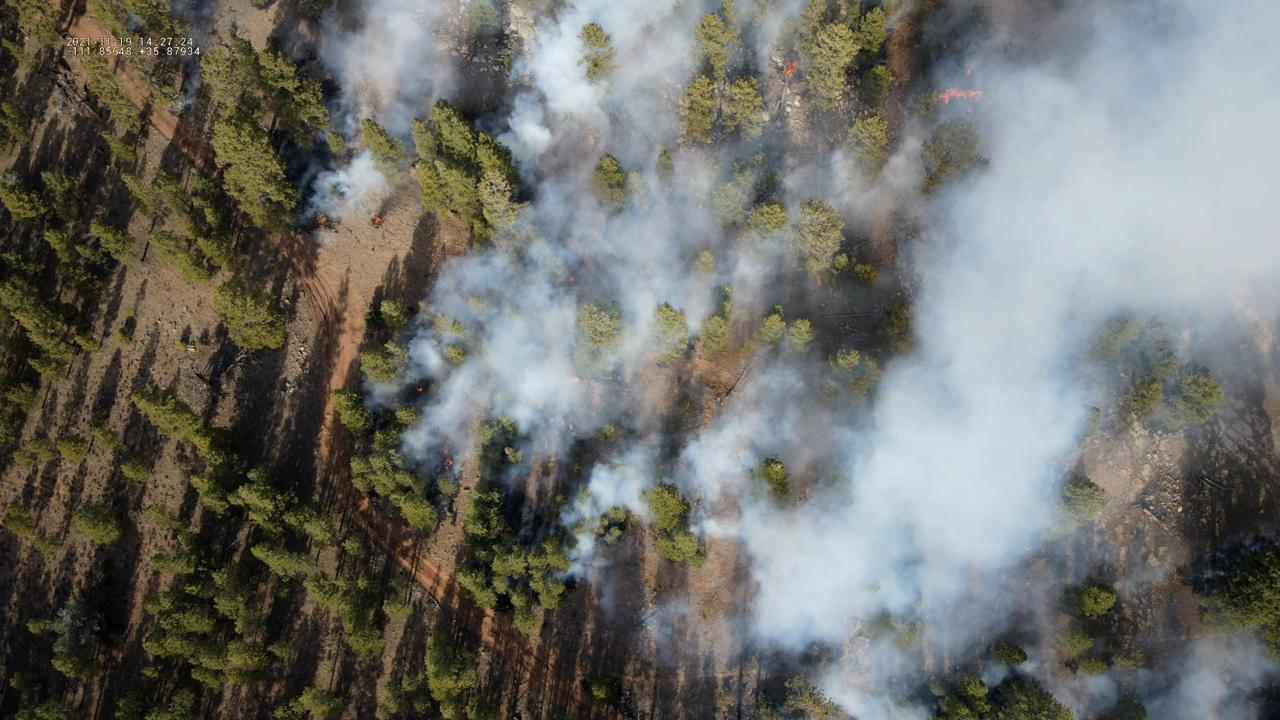fire: (939, 85, 985, 104), (783, 59, 799, 78), (316, 216, 328, 226), (374, 216, 385, 226), (446, 456, 454, 466), (416, 384, 424, 392), (569, 275, 576, 284), (966, 68, 972, 76)
smoke: (280, 0, 1280, 720), (163, 0, 218, 116), (124, 17, 141, 34)
